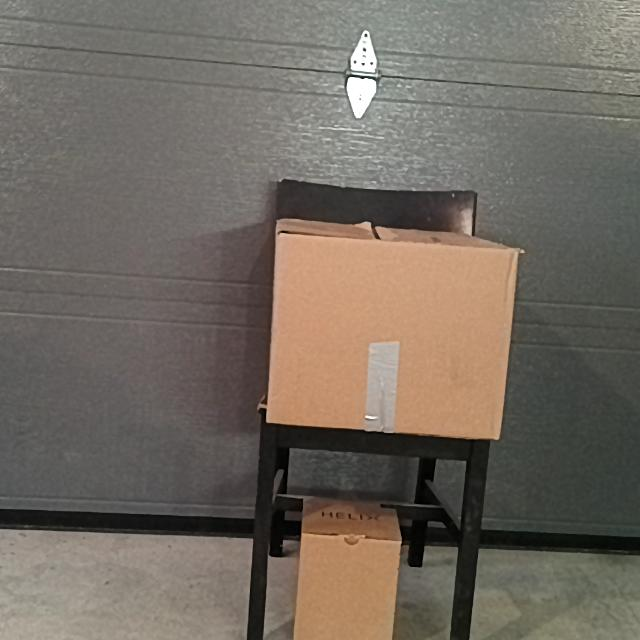box: (267, 241, 514, 431), (300, 533, 394, 640)
